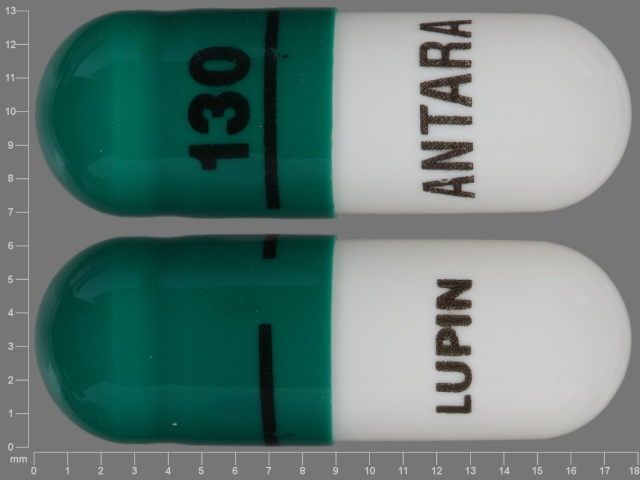capsule: (38, 8, 628, 221), (33, 237, 632, 446)
